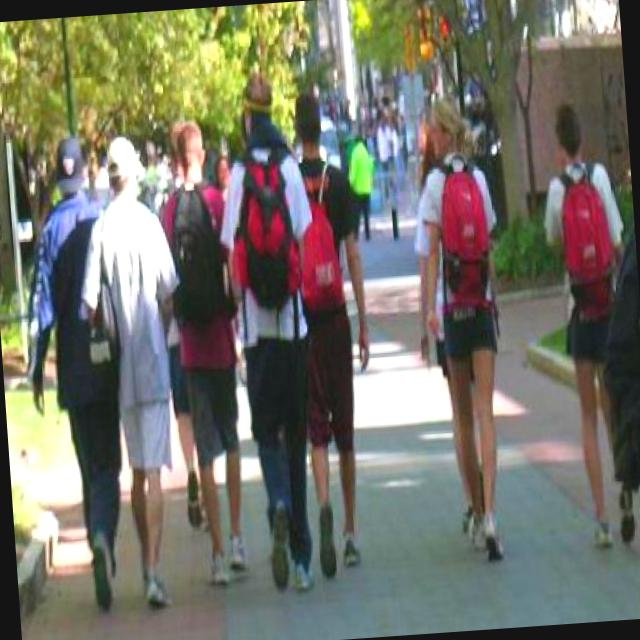Person: (214, 63, 338, 597), (64, 127, 200, 612), (6, 123, 127, 612), (404, 94, 524, 566), (280, 85, 390, 582), (531, 97, 640, 554), (161, 114, 257, 586)
